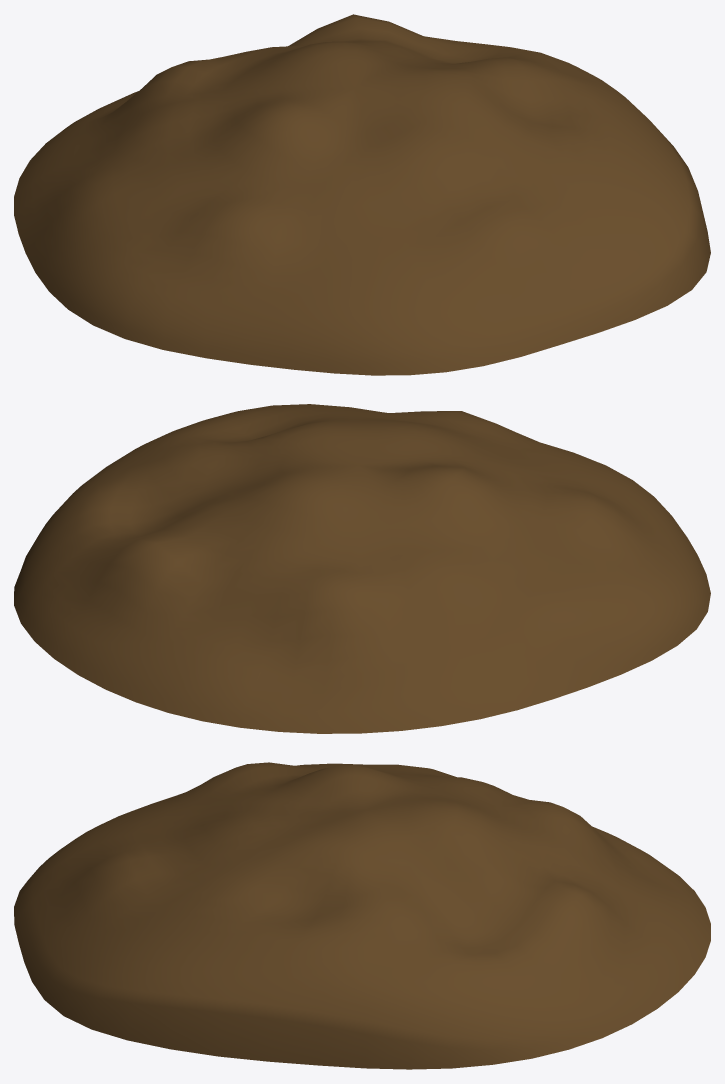
File: fertil_soil.fbx
3 views of the same model, one above another, from view 1: azimuth 30°, elevation 25°; view 2: azimuth 150°, elevation 25°; view 3: azimuth 270°, elevation 25° (orthographic). The views are drawn at different scales.
Parts seen in each view (by area): view 1: pSphere2; view 2: pSphere2; view 3: pSphere2.
Boxes of the visible parts, x1,y1,x2,y2 form: pSphere2: (14, 14, 710, 375); pSphere2: (14, 404, 710, 733); pSphere2: (14, 762, 710, 1069).
Bounding box in the file's own units: 0.936 × 0.2019 × 0.9833.
